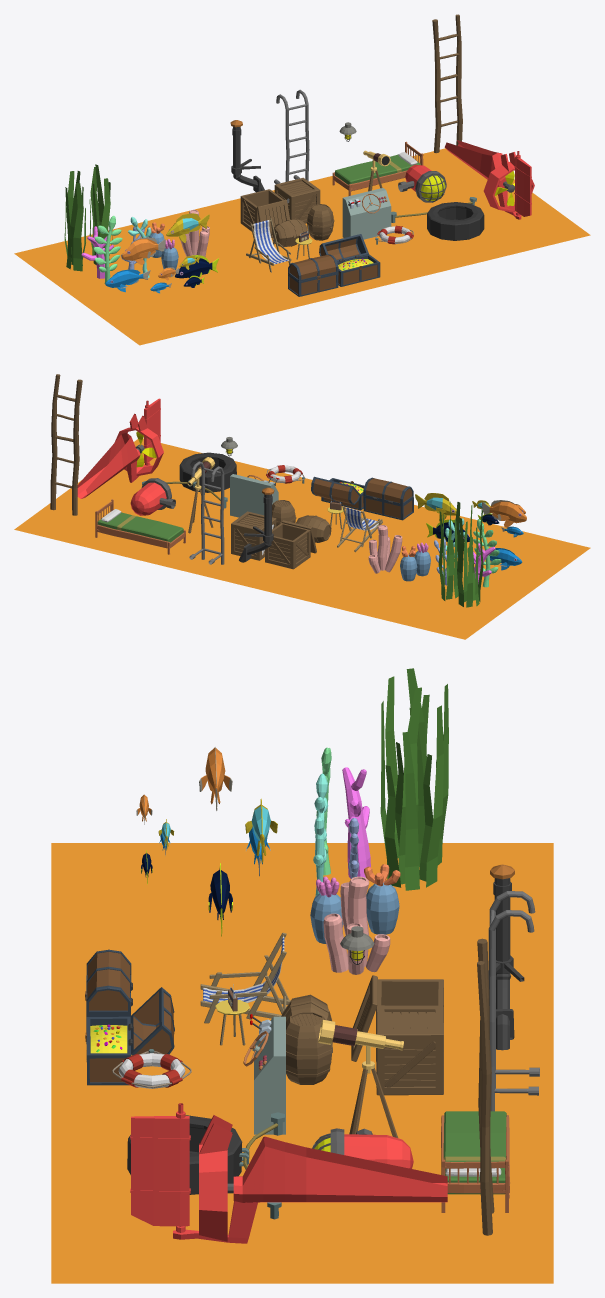
File: external_assets.glb
The picture shows the model from 3 angles, top to bottom: view 1: azimuth 30°, elevation 25°; view 2: azimuth 150°, elevation 25°; view 3: azimuth 270°, elevation 25°; orthographic projection. The views are drawn at different scales.
Visible parts, largest first — view 1: Assets; view 2: Assets; view 3: Assets.
Boxes of the visible parts, box(x1,y1,x2,y2) form: Assets: box(14, 14, 590, 345); Assets: box(14, 374, 590, 639); Assets: box(51, 668, 553, 1283).
Size of the model in its own units: 8.82 by 2.76 by 4.25.
